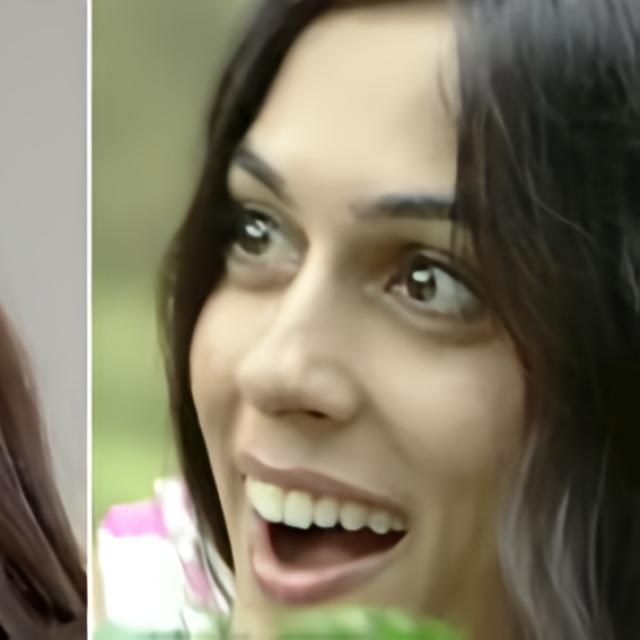happy: (188, 2, 544, 640)
